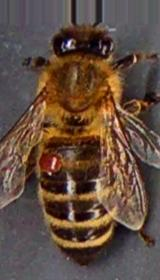varroa_mite: (34, 145, 72, 176)
